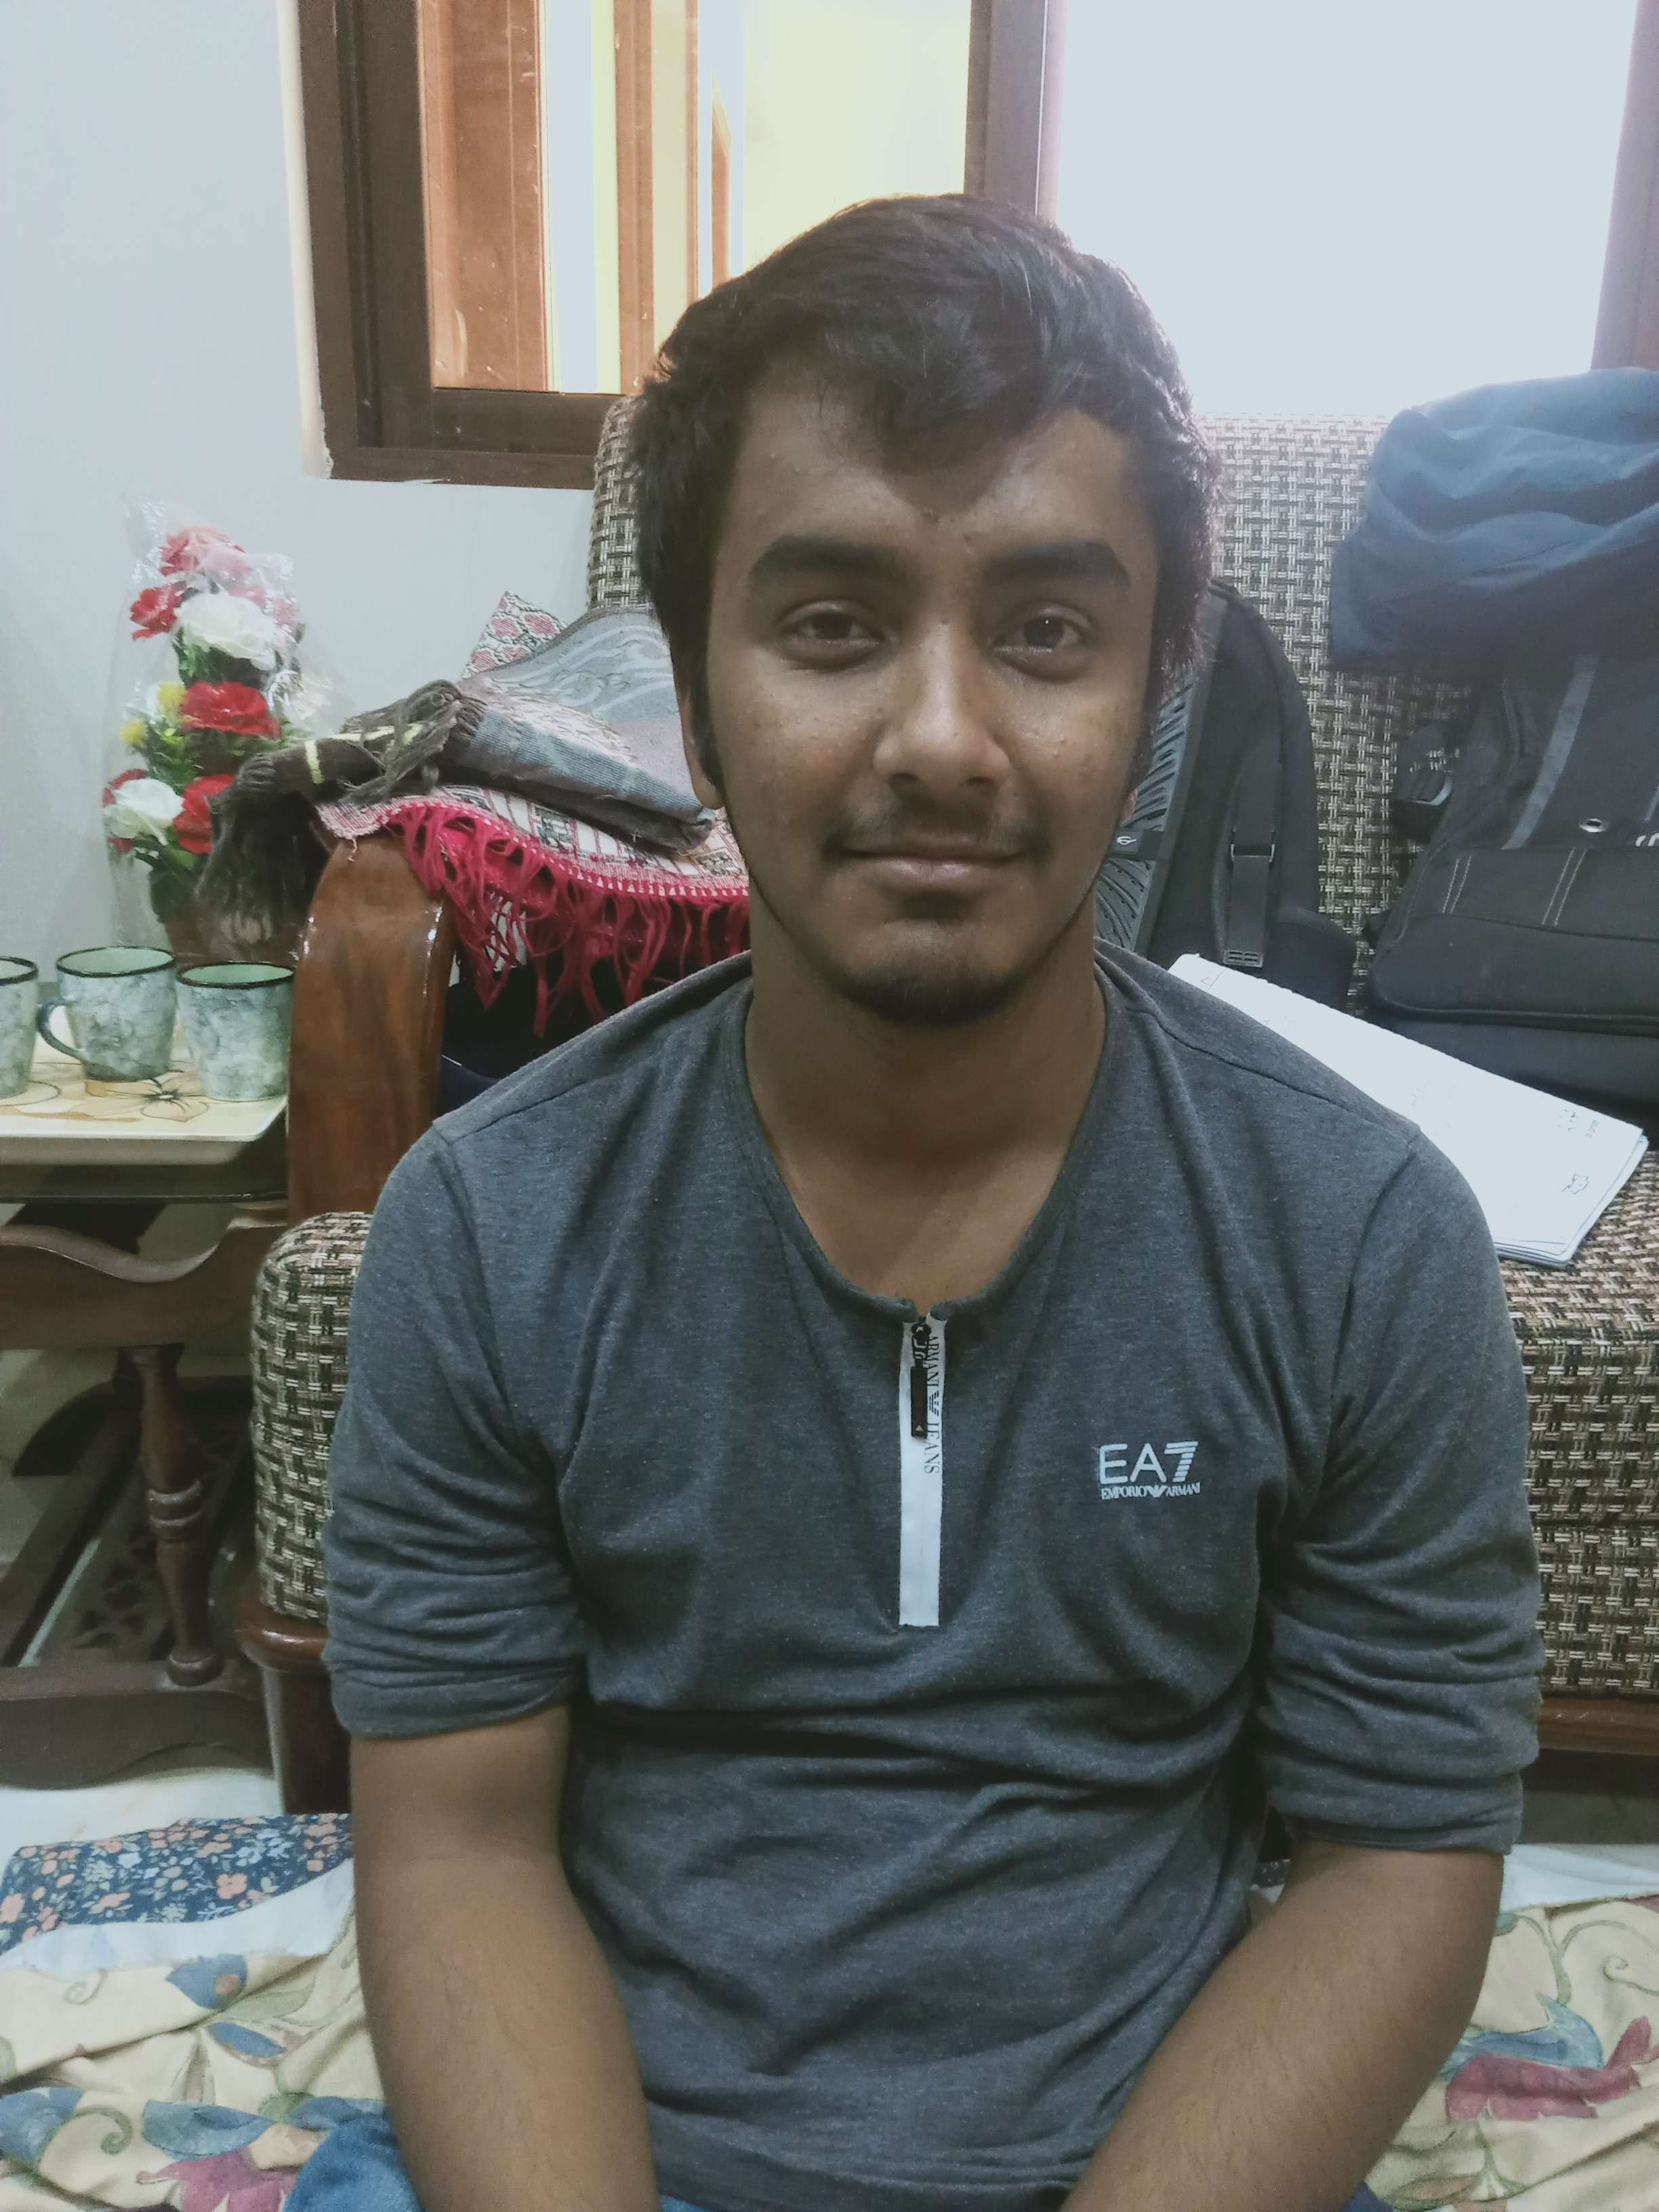NoMask: (745, 503, 1134, 974)
